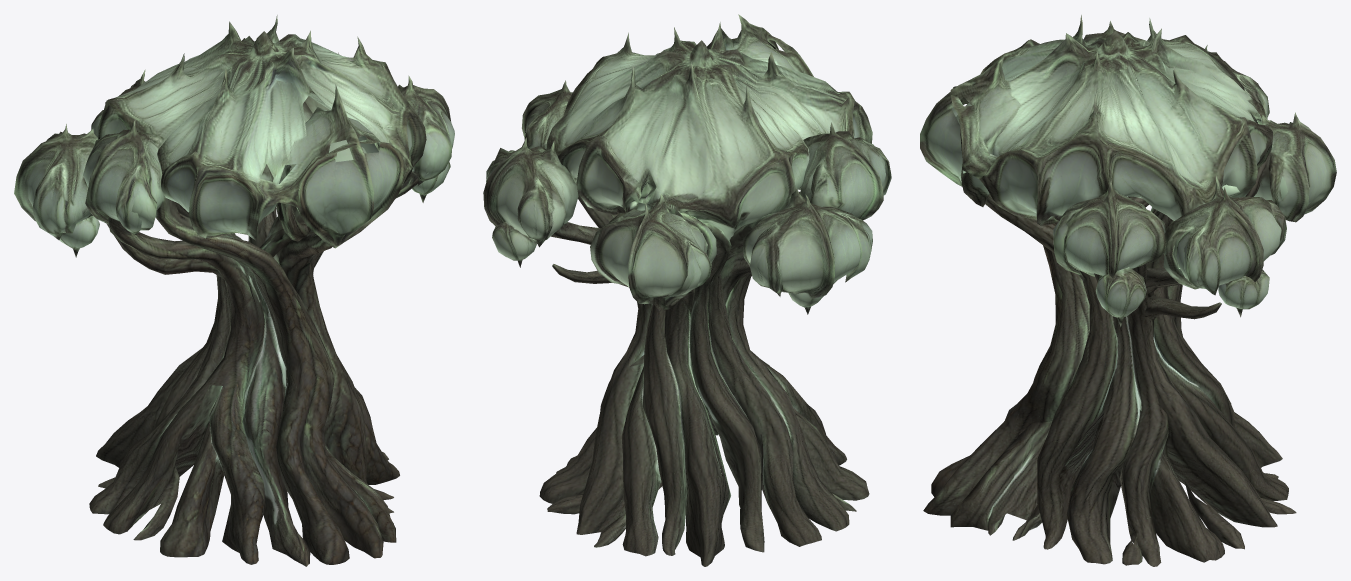
File: alien-tree-bulb.glb
3 views of the same model, side by side, from view 1: azimuth 30°, elevation 25°; view 2: azimuth 150°, elevation 25°; view 3: azimuth 270°, elevation 25° (orthographic). The views are drawn at different scales.
Visible parts, largest first — view 1: mesh_node; view 2: mesh_node; view 3: mesh_node.
Part boxes in pixels (bbox=[...]): mesh_node: bbox=[14, 15, 454, 566]; mesh_node: bbox=[483, 14, 891, 566]; mesh_node: bbox=[920, 15, 1336, 566].
Bounding box in the file's own units: 0.877 × 1 × 0.8008.
Materials: 1 (1 with a texture image).
